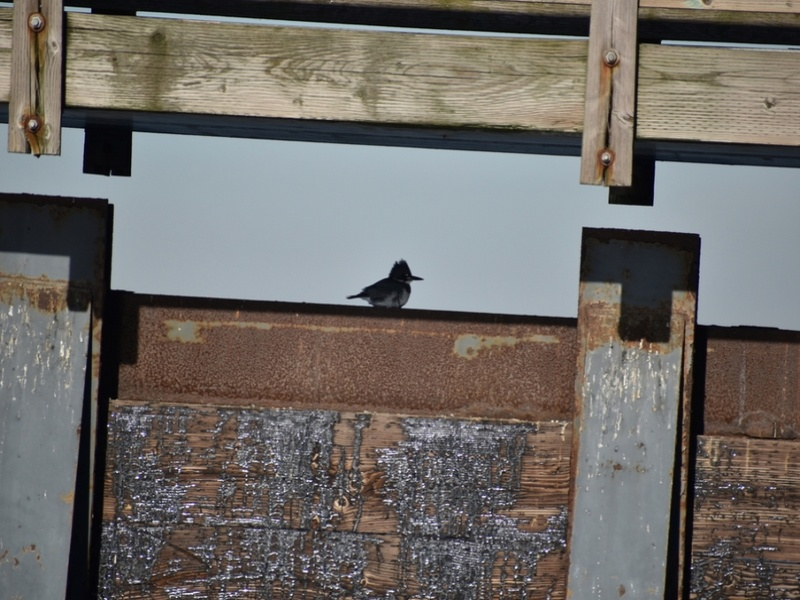kingfisher: (347, 258, 426, 309)
